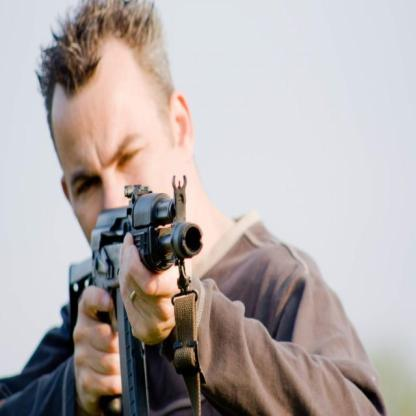criminal: (0, 0, 389, 416)
weapon: (68, 172, 205, 416)
